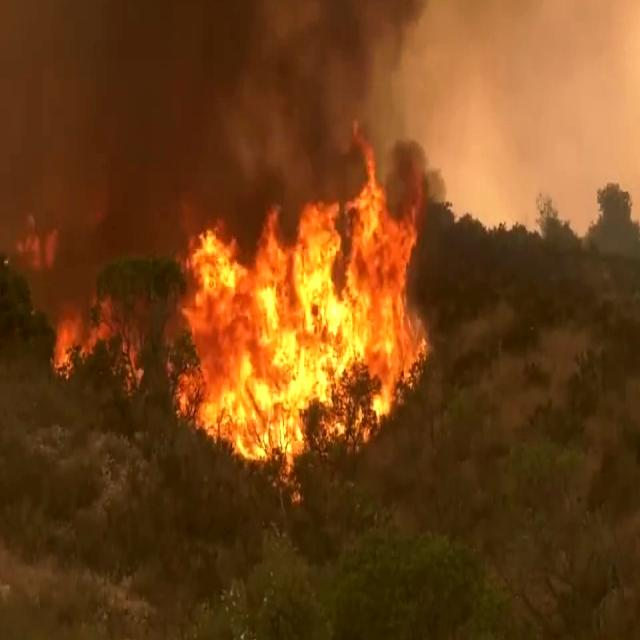fire: (162, 134, 427, 477)
smoke: (15, 0, 398, 107)
